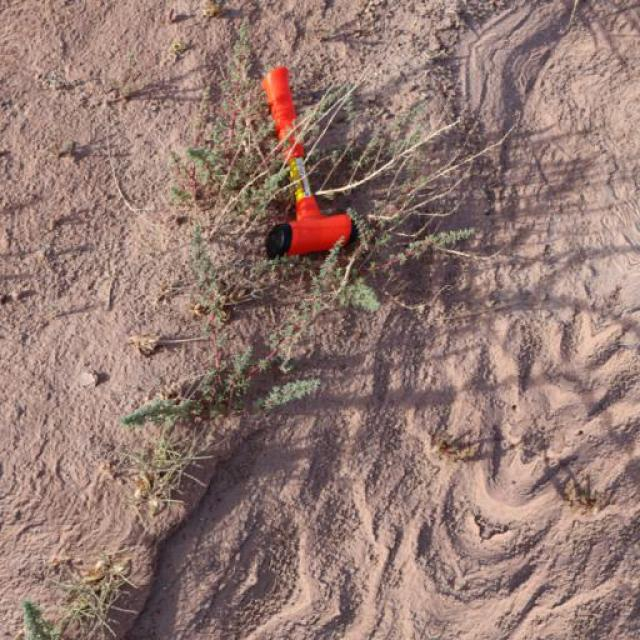mallet: (258, 64, 354, 260)
